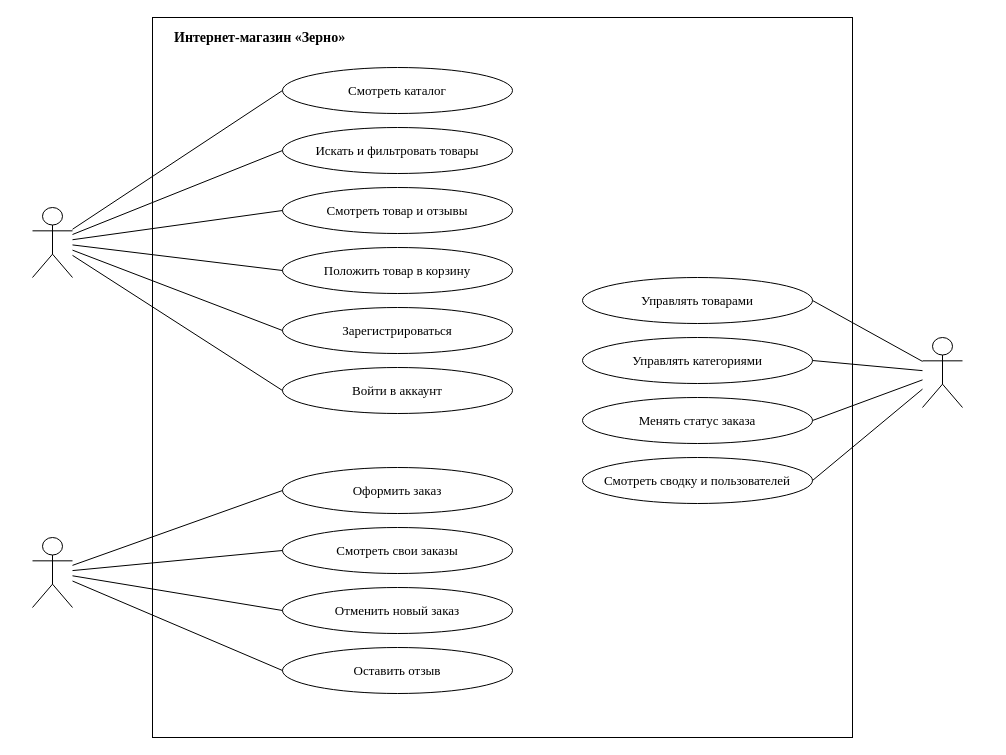
Some shapes in this 1006 by 755 pixel diagram are drawn without their labels. The shapes that lost their labels are listed below. From the top down, each one's box as (x1, y1, x2, y2) in pixels, then its label:
(32, 206, 72, 278): Гость
(922, 336, 962, 408): Администратор
(32, 536, 72, 608): Покупатель
